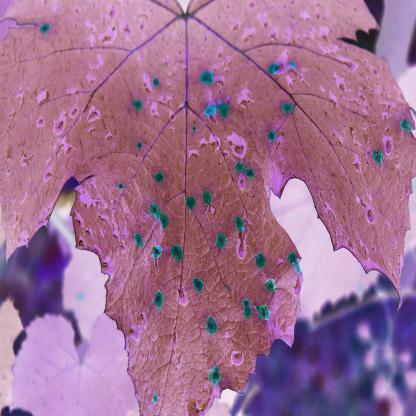grape leaf: (6, 3, 415, 404)
